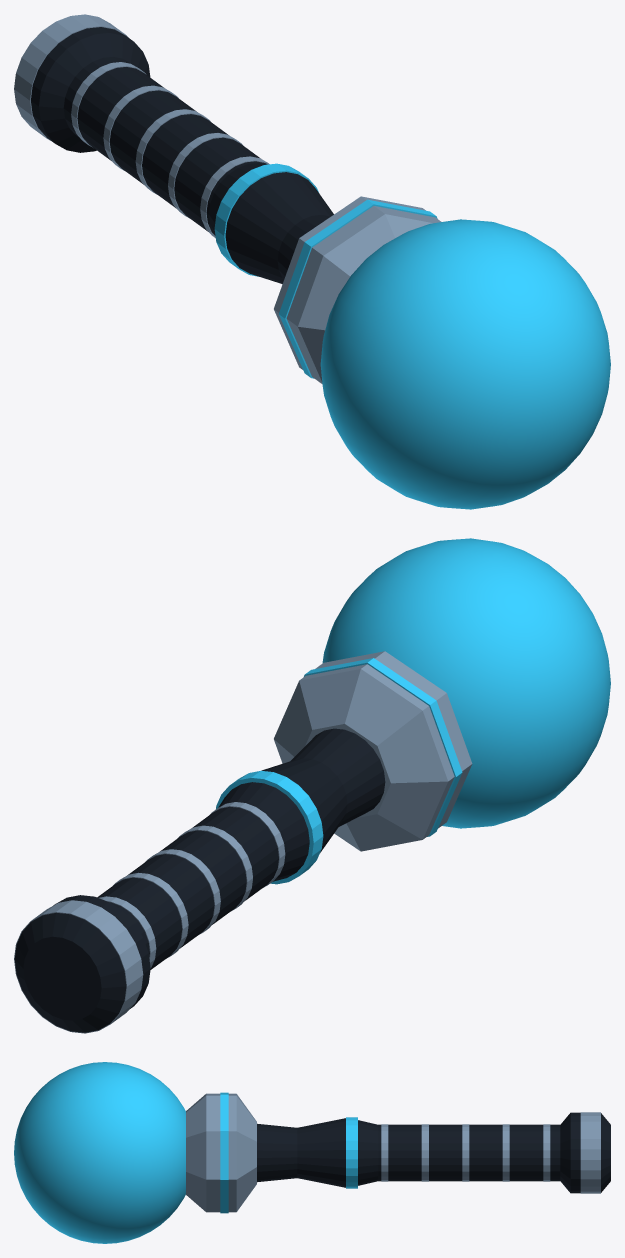
The model's file is SM_StellarInstance.obj.
3 views of the same model, one above another, from view 1: azimuth 30°, elevation 25°; view 2: azimuth 150°, elevation 25°; view 3: azimuth 270°, elevation 25° (orthographic). The views are drawn at different scales.
Visible parts, largest first — view 1: SM_StellarInstance; view 2: SM_StellarInstance; view 3: SM_StellarInstance.
Part boxes in pixels (x1,y1,x2,y2): SM_StellarInstance: [14, 14, 610, 509]; SM_StellarInstance: [14, 538, 610, 1033]; SM_StellarInstance: [14, 1062, 610, 1243].
Size of the model in its own units: 18 by 18 by 59.
